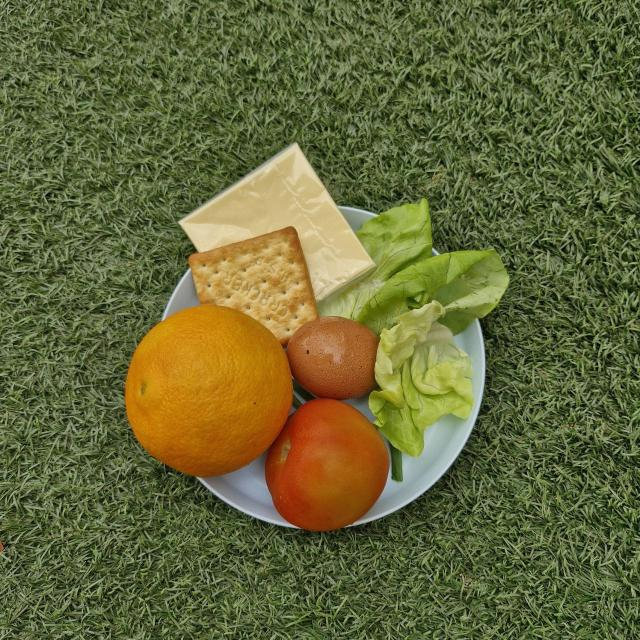food_waste: (348, 190, 508, 446), (120, 306, 292, 477), (264, 392, 396, 534), (193, 153, 349, 260), (180, 226, 316, 300), (285, 293, 381, 395)
